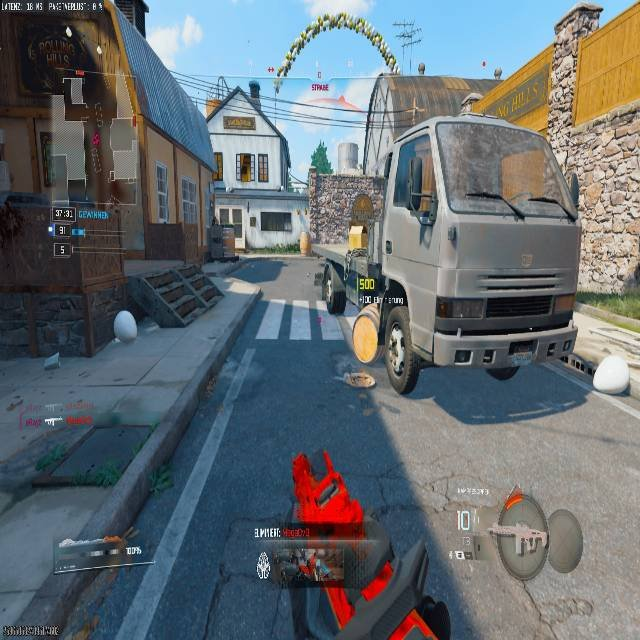head: (292, 449, 339, 506)
